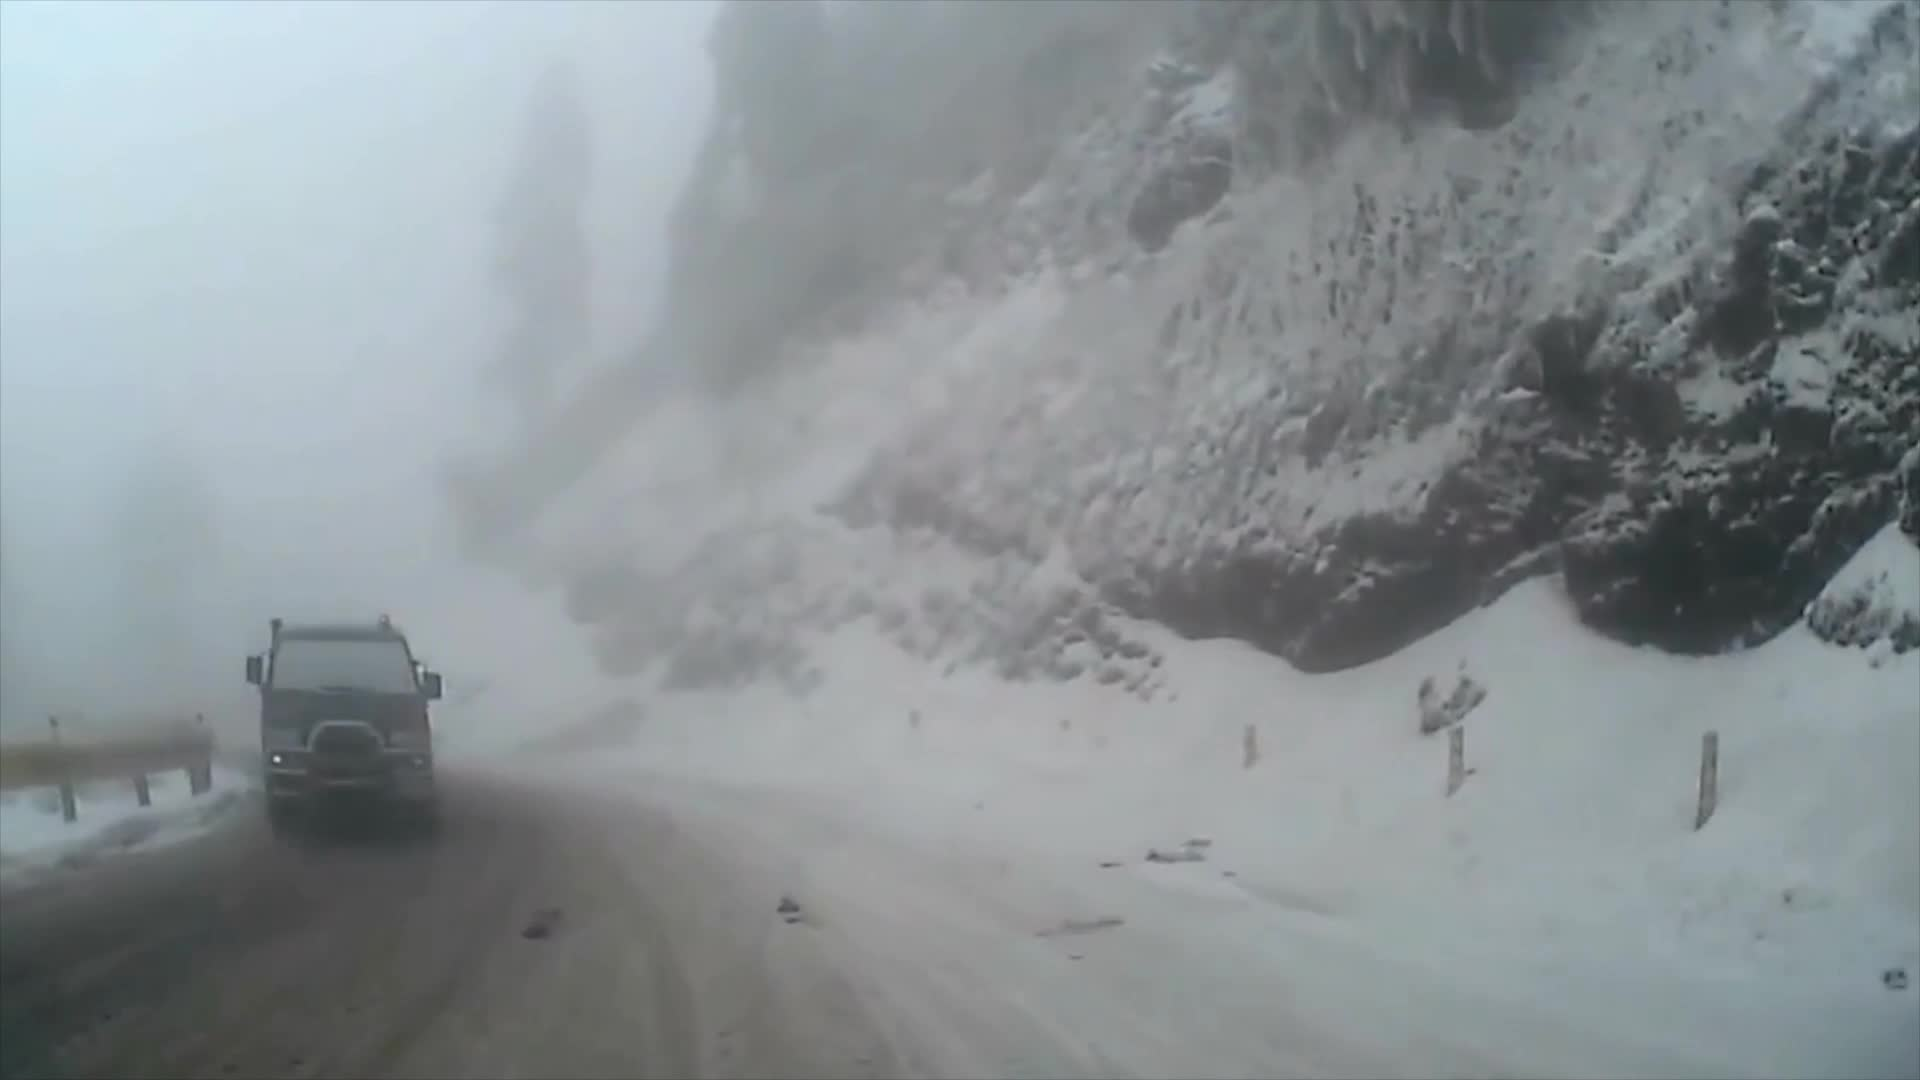vehicle: (248, 615, 444, 831)
